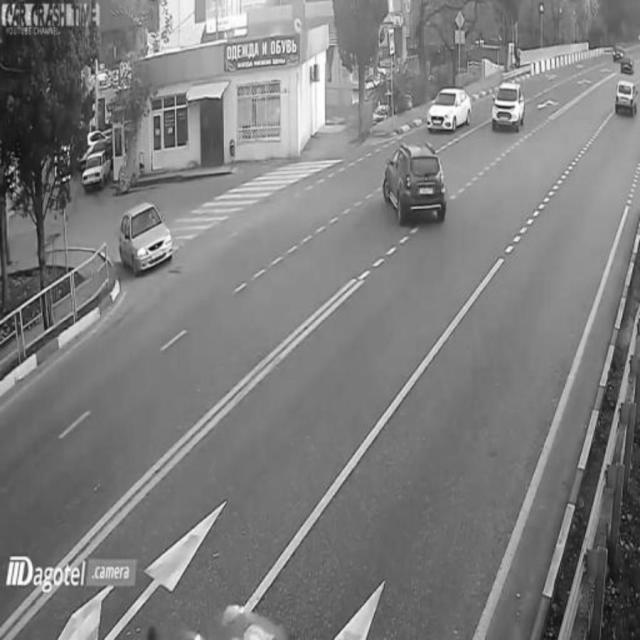vehicle: (378, 142, 448, 230), (115, 206, 169, 273), (488, 77, 526, 135), (427, 87, 474, 129), (79, 146, 113, 194), (614, 79, 640, 121)
